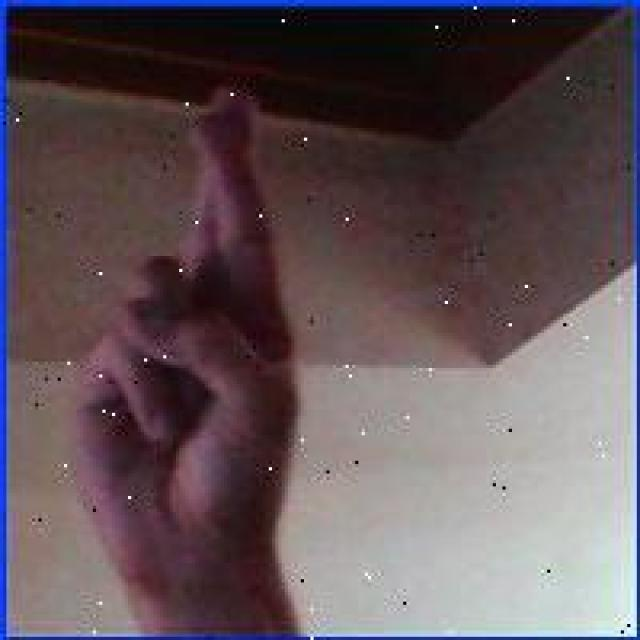R: (56, 82, 309, 568)
